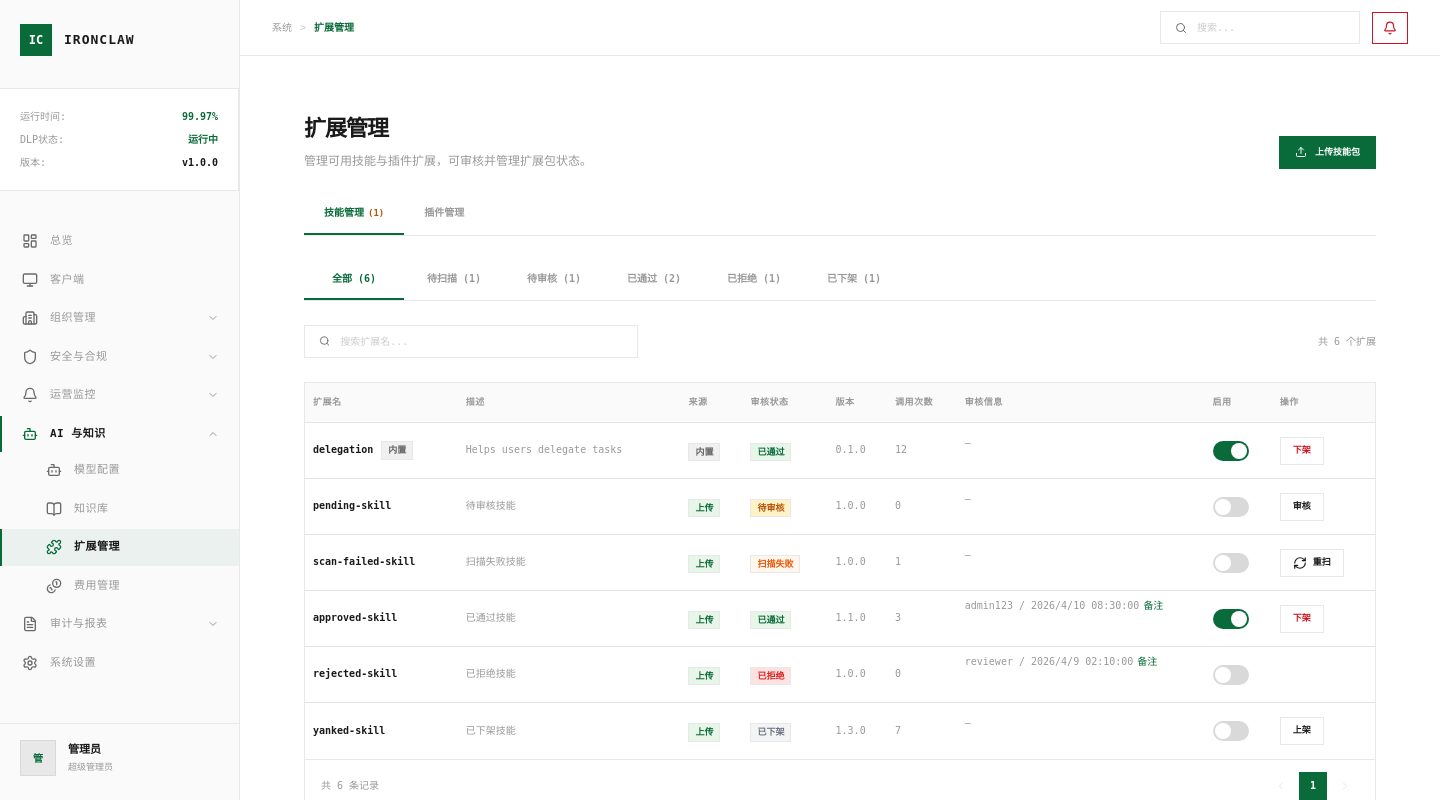
扩展管理 › 上传流程 › 未选择文件时上传按钮应保持禁用
Click the button "上传技能包". click: (1328, 153)
box: [1279,136,1376,170]
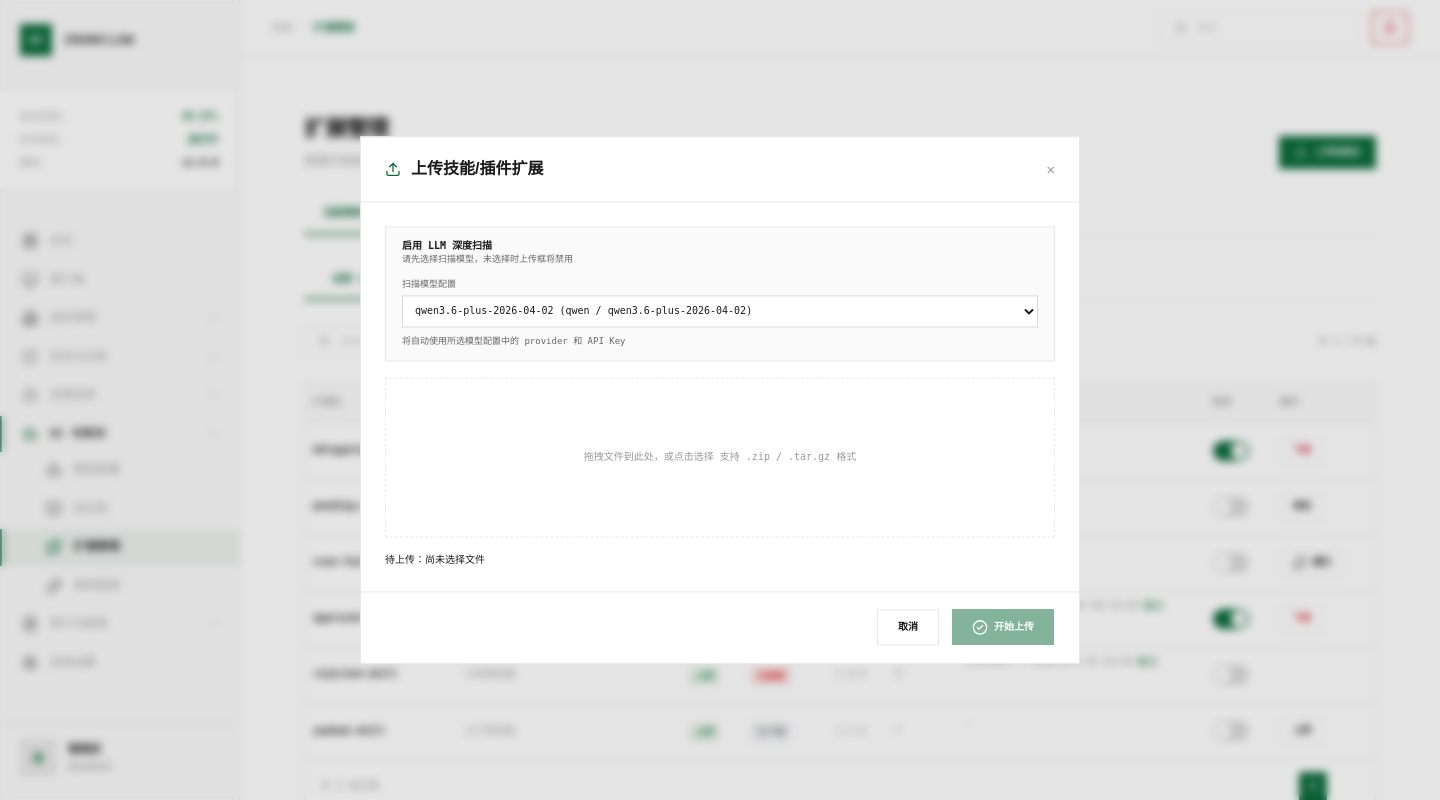
Now the button "开始上传" is disabled
Hover over the element showing "开始上传" at (1003, 628), box [951,609,1055,647]
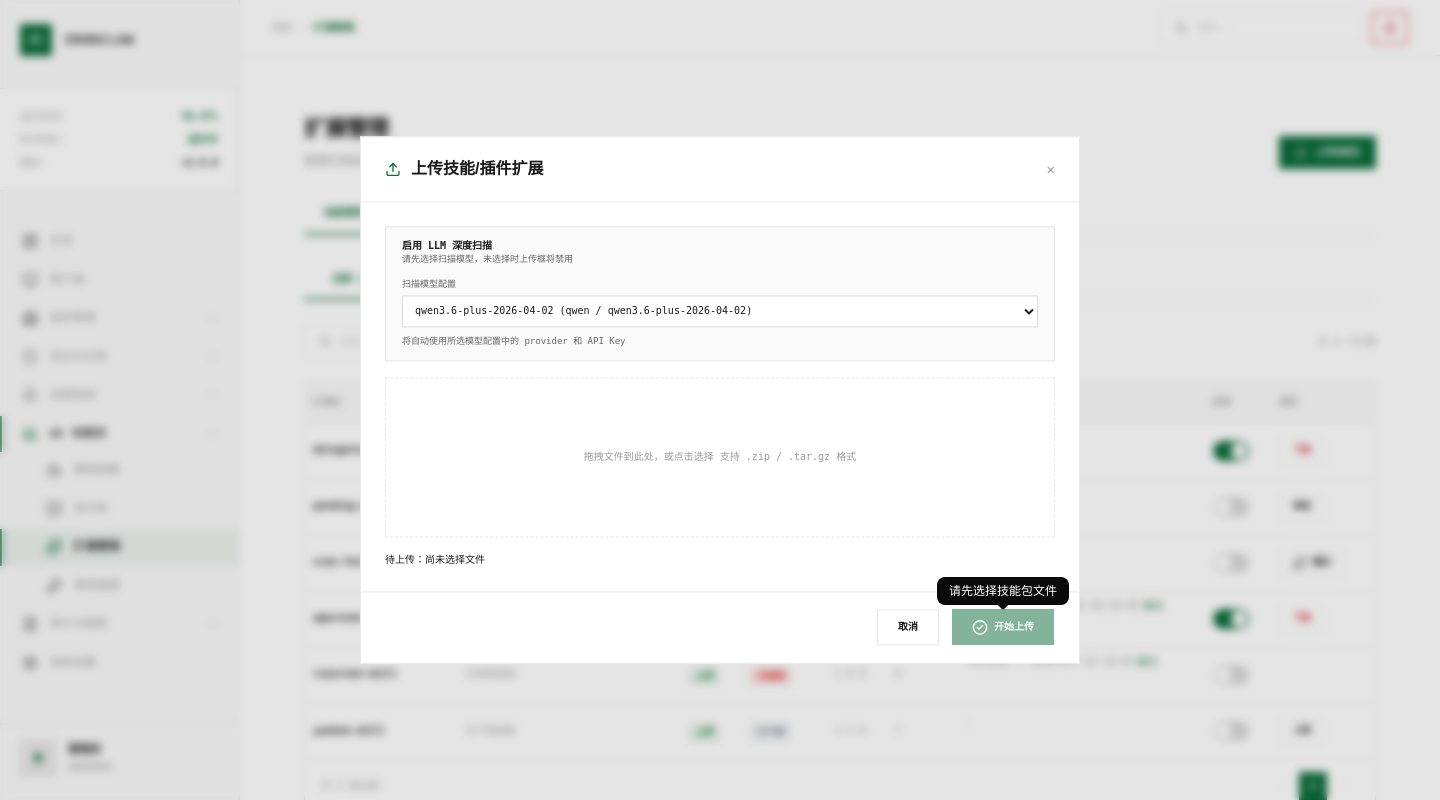
Now the text "请先选择技能包文件" is shown, box [937,577,1069,605]
